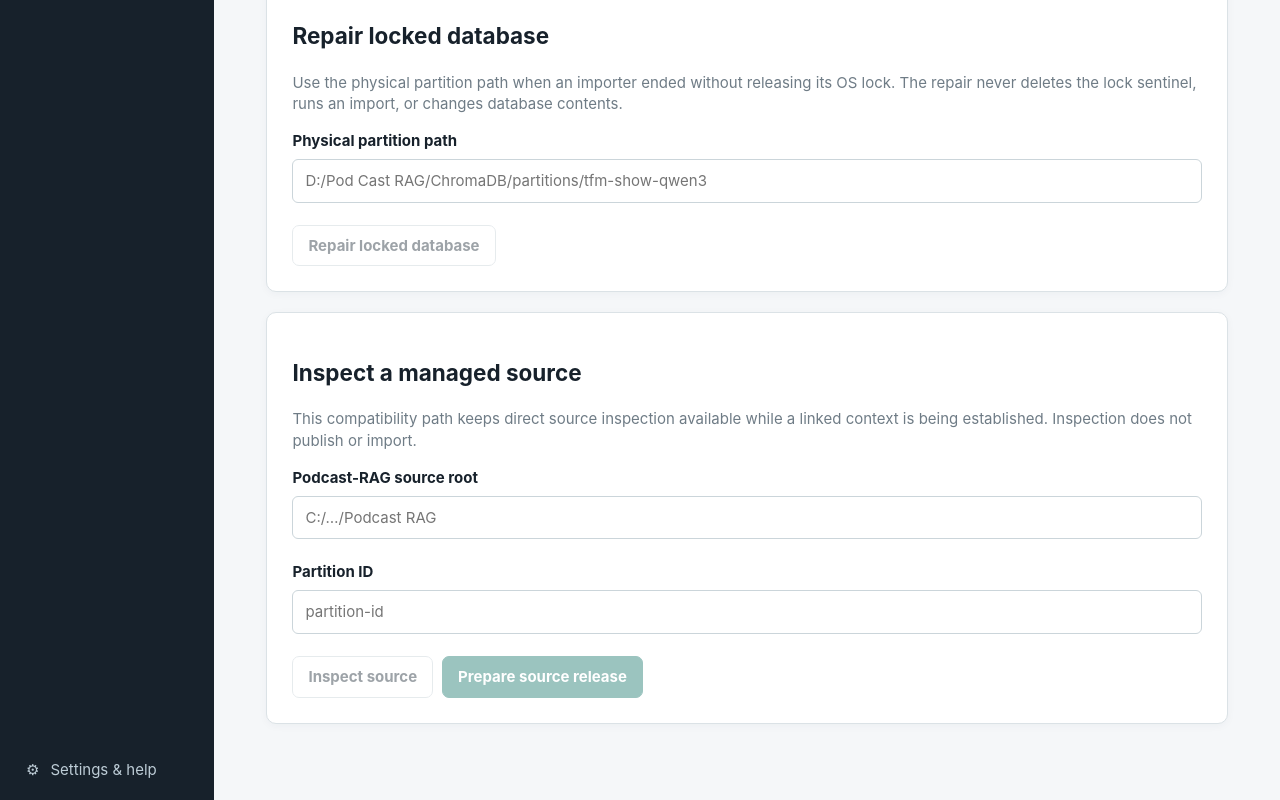
Test: modern database creation flow › shows source readiness counts separately from active database health
(page scrolled)
Type "C:/Podcast RAG" into the field labelled "Podcast-RAG source root" at (747, 518), box [292,496,1202,539]
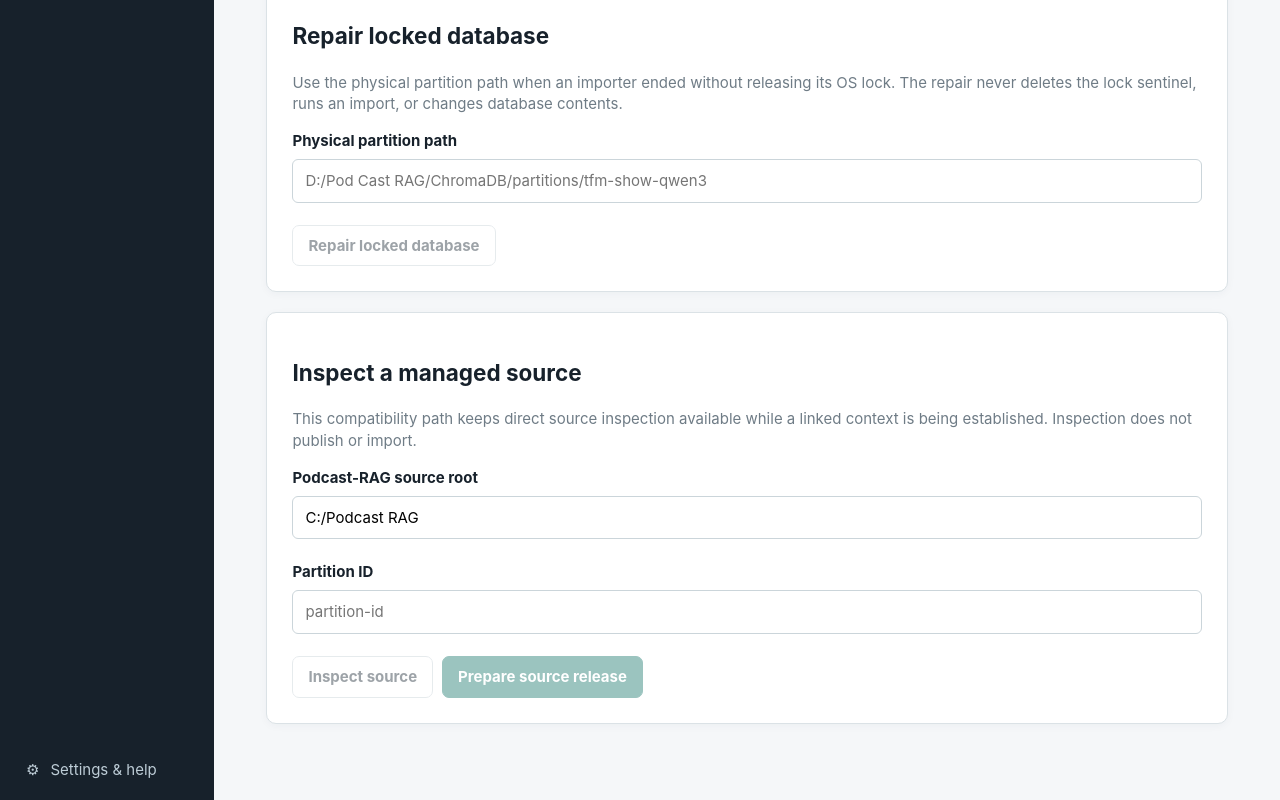
Type "part-one" into the field labelled "Partition ID" at (747, 612), box [292,590,1202,634]
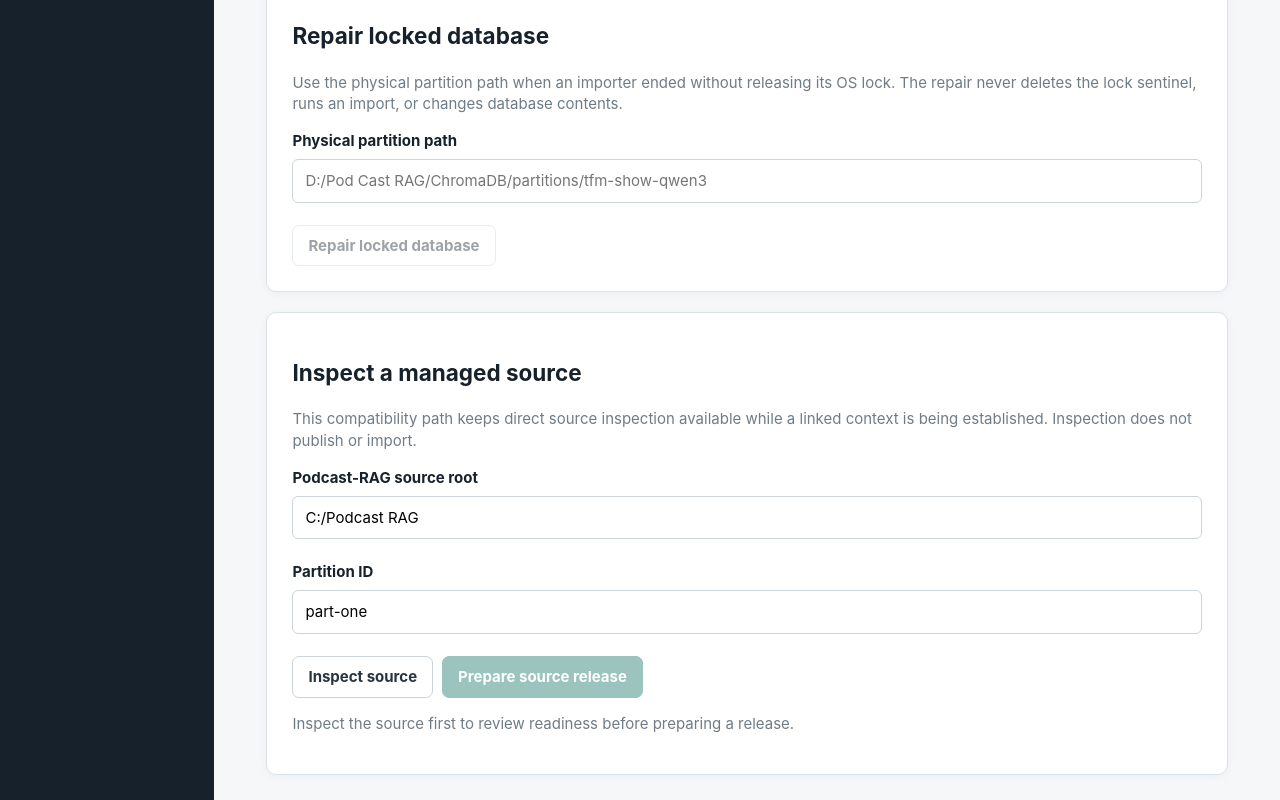
Click the button "Inspect source" at (363, 677), box [292,656,433,698]
(page scrolled)
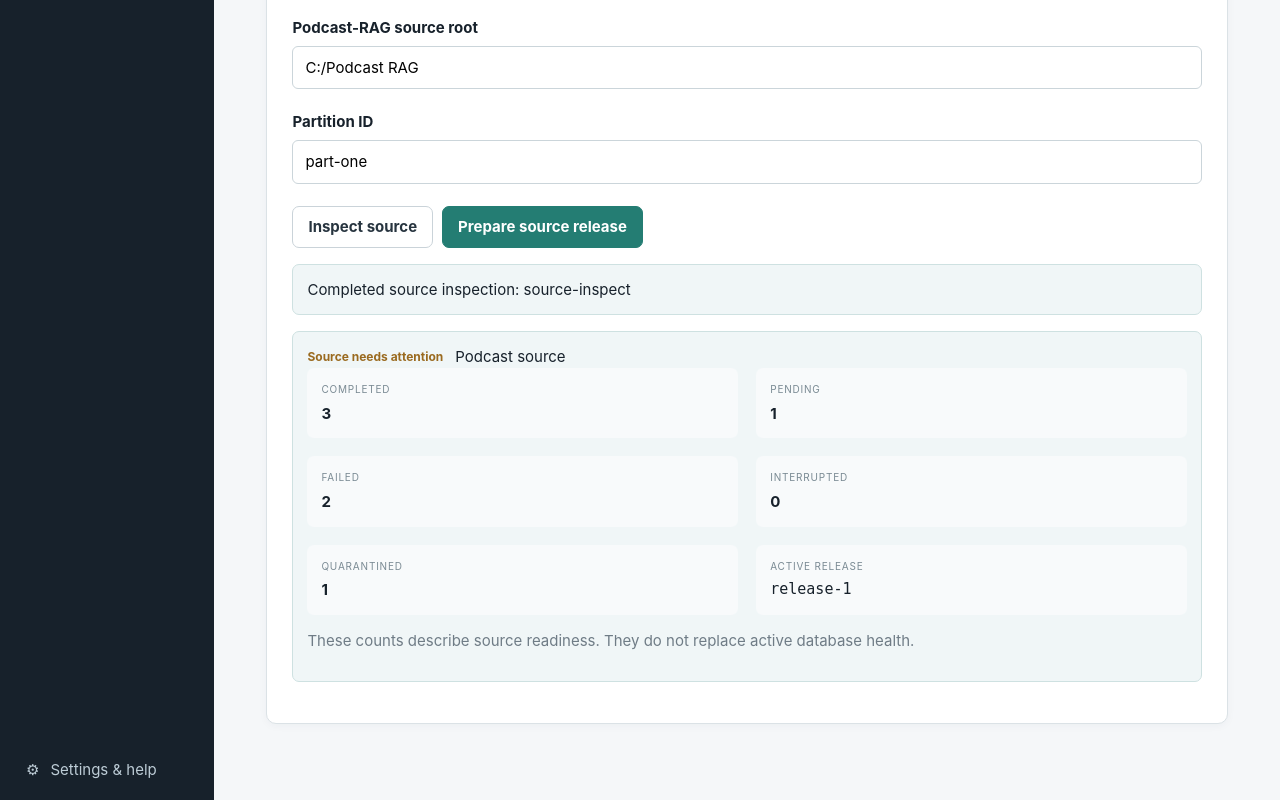
Check: the element named "Source readiness report" is shown, box [292,331,1202,682]
Check: the text "Completed" is shown, box [321,383,390,395]
Check: the text "Pending" is shown, box [770,383,821,395]
